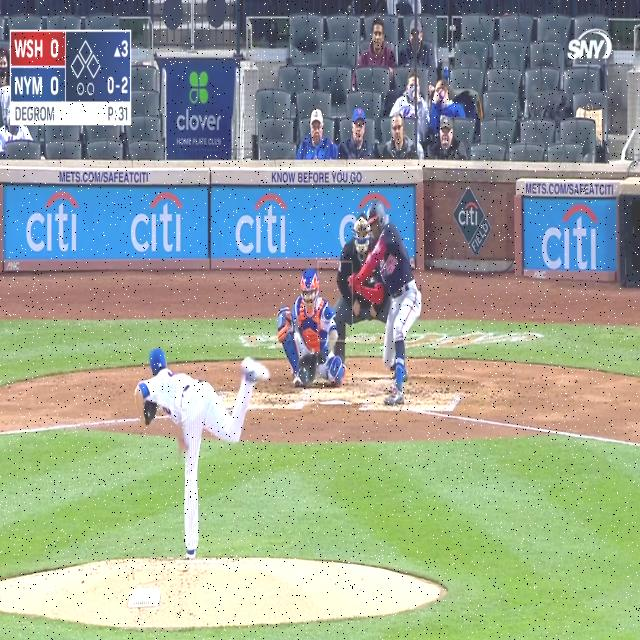baseball: (294, 332, 300, 343)
